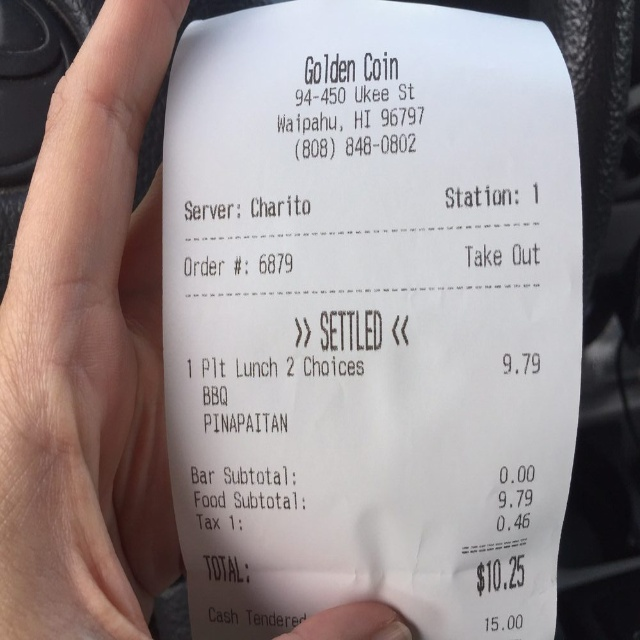invoice_table: (185, 353, 543, 434)
invoice_title: (273, 50, 425, 160)
invoice_total: (203, 554, 527, 594)
